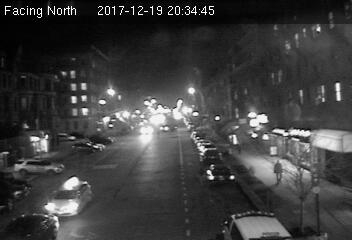car: (42, 177, 94, 216), (202, 163, 238, 187), (200, 149, 223, 162)
pedestrian: (273, 158, 284, 185)
police: (218, 209, 293, 240)
